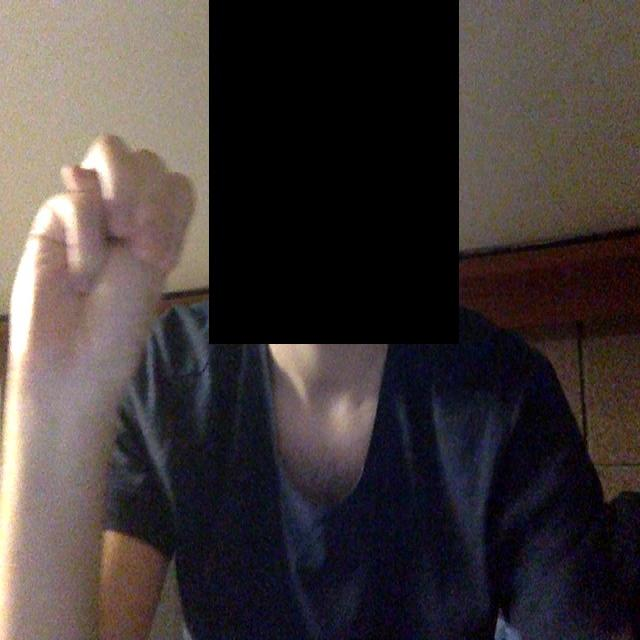M: (8, 98, 206, 477)
